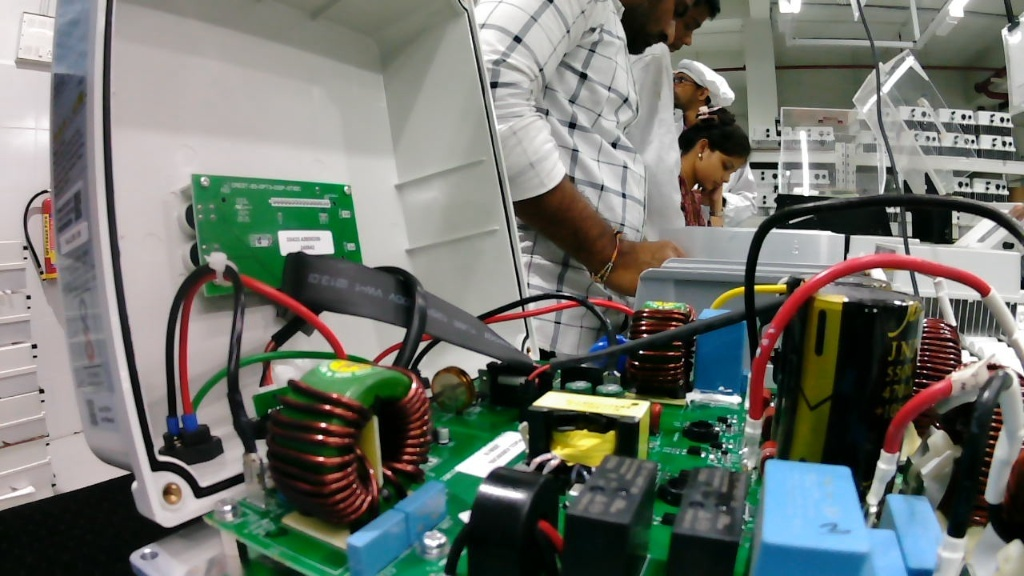wire_red: (148, 335, 229, 473)
